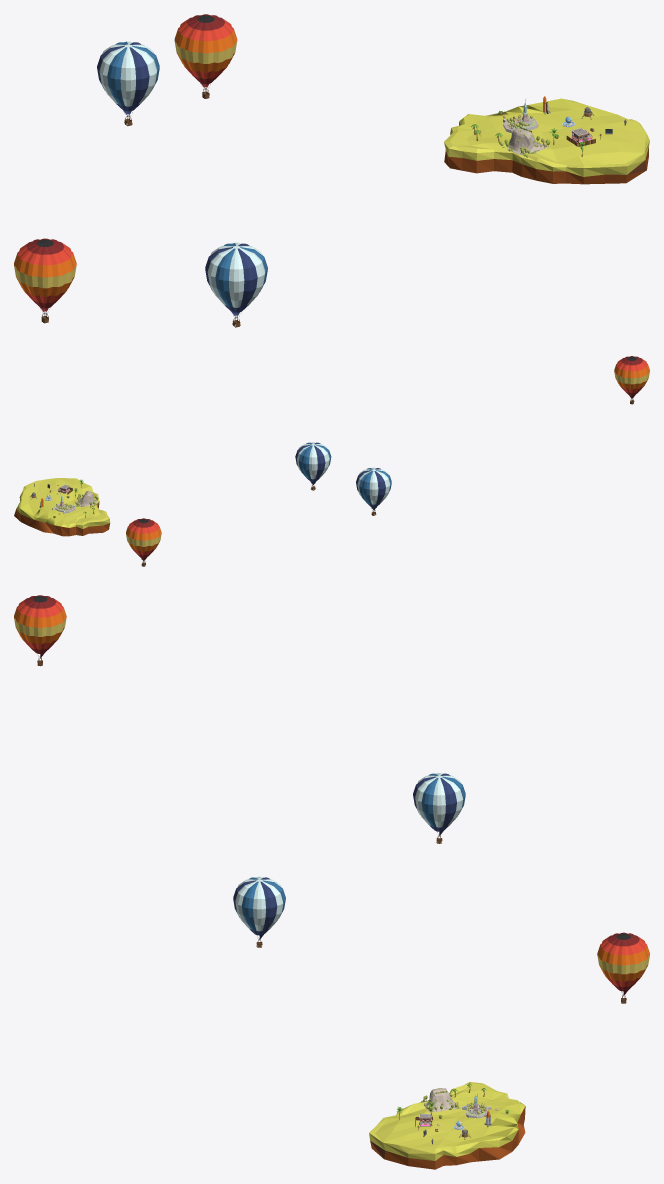
File: Country_America.glb
3 renders of one model, top to bottom at view 1: azimuth 30°, elevation 25°; view 2: azimuth 150°, elevation 25°; view 3: azimuth 270°, elevation 25°, orthographic. The views are drawn at different scales.
Parts seen in each view (by area): view 1: balloon_red.003, balloon-stripes.002, balloon-stripes.001, balloon.002, balloon.003, Hollywood, status; view 2: balloon_red.003, balloon-stripes.002, balloon-stripes.001, balloon.002, balloon.003; view 3: balloon_red.003, balloon-stripes.002, balloon-stripes.001, balloon.002, balloon.003.
Part boxes in pixels (x1=…): balloon_red.003: x1=444, y1=98, x2=649, y2=184; balloon-stripes.002: x1=97, y1=41, x2=159, y2=126; balloon-stripes.001: x1=205, y1=242, x2=267, y2=327; balloon.002: x1=174, y1=14, x2=237, y2=98; balloon.003: x1=14, y1=238, x2=76, y2=323; Hollywood: x1=499, y1=126, x2=550, y2=157; status: x1=503, y1=99, x2=538, y2=133; balloon_red.003: x1=14, y1=478, x2=110, y2=536; balloon-stripes.002: x1=295, y1=442, x2=331, y2=490; balloon-stripes.001: x1=356, y1=467, x2=391, y2=515; balloon.002: x1=126, y1=518, x2=161, y2=566; balloon.003: x1=614, y1=356, x2=649, y2=404; balloon_red.003: x1=369, y1=1082, x2=525, y2=1169; balloon-stripes.002: x1=413, y1=773, x2=465, y2=843; balloon-stripes.001: x1=233, y1=876, x2=285, y2=947; balloon.002: x1=597, y1=932, x2=649, y2=1003; balloon.003: x1=14, y1=595, x2=66, y2=666.
Bounding box in the file's own units: 12.68 × 3.89 × 9.69.
Materials: 57 (6 with a texture image).
